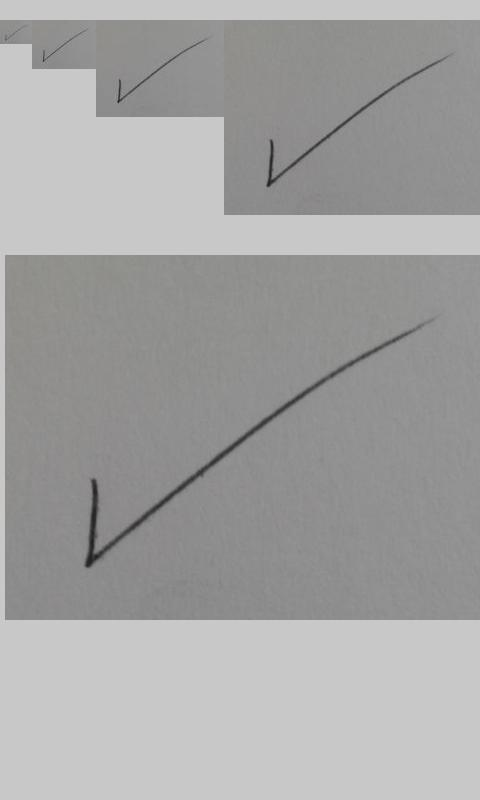check_box: (85, 323, 394, 570), (266, 56, 444, 188), (117, 39, 201, 104), (42, 29, 88, 63), (4, 25, 27, 41)
